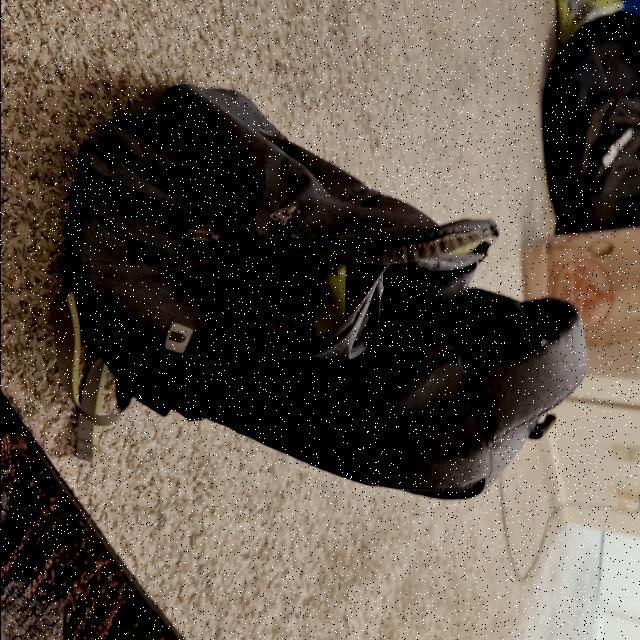bag: (67, 88, 601, 516)
